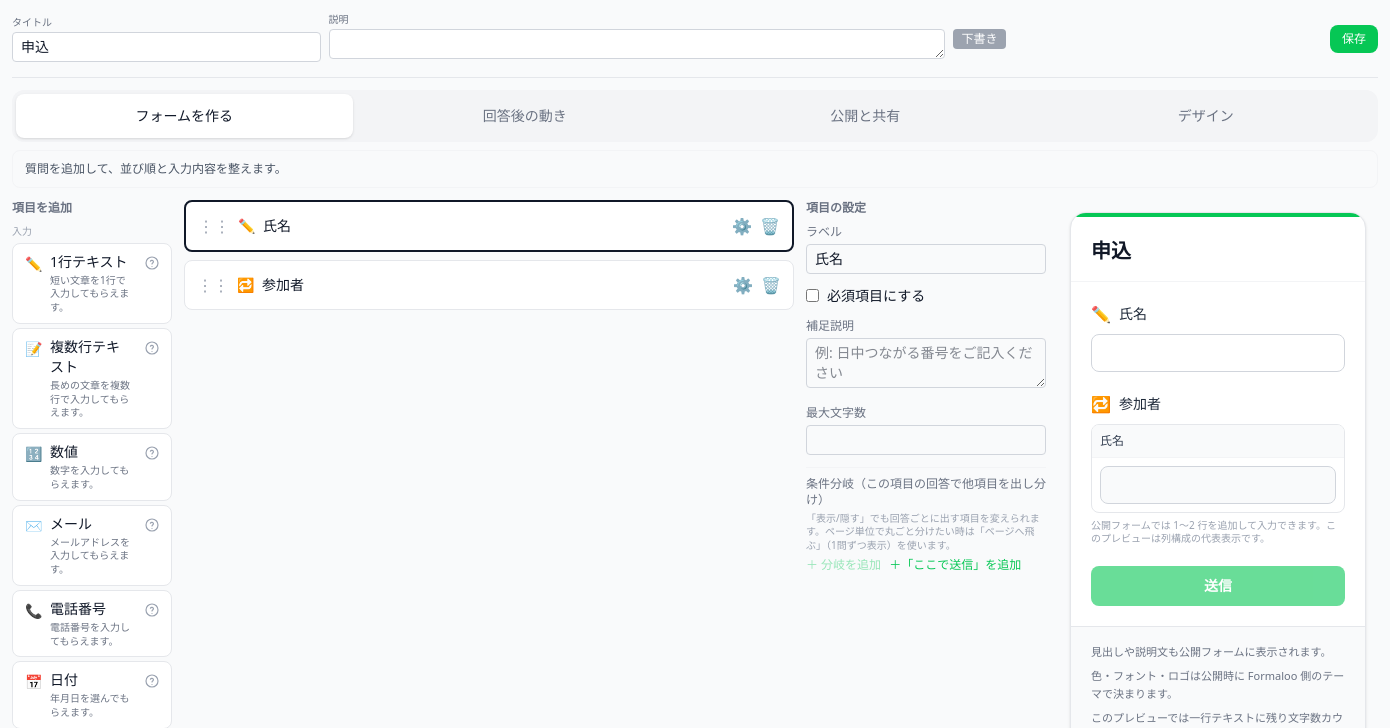
Test: repeating section builder › 繰り返し列から参照中の通常項目は削除させない
Click the button named "削除" at (770, 226), box [760,214,780,238]
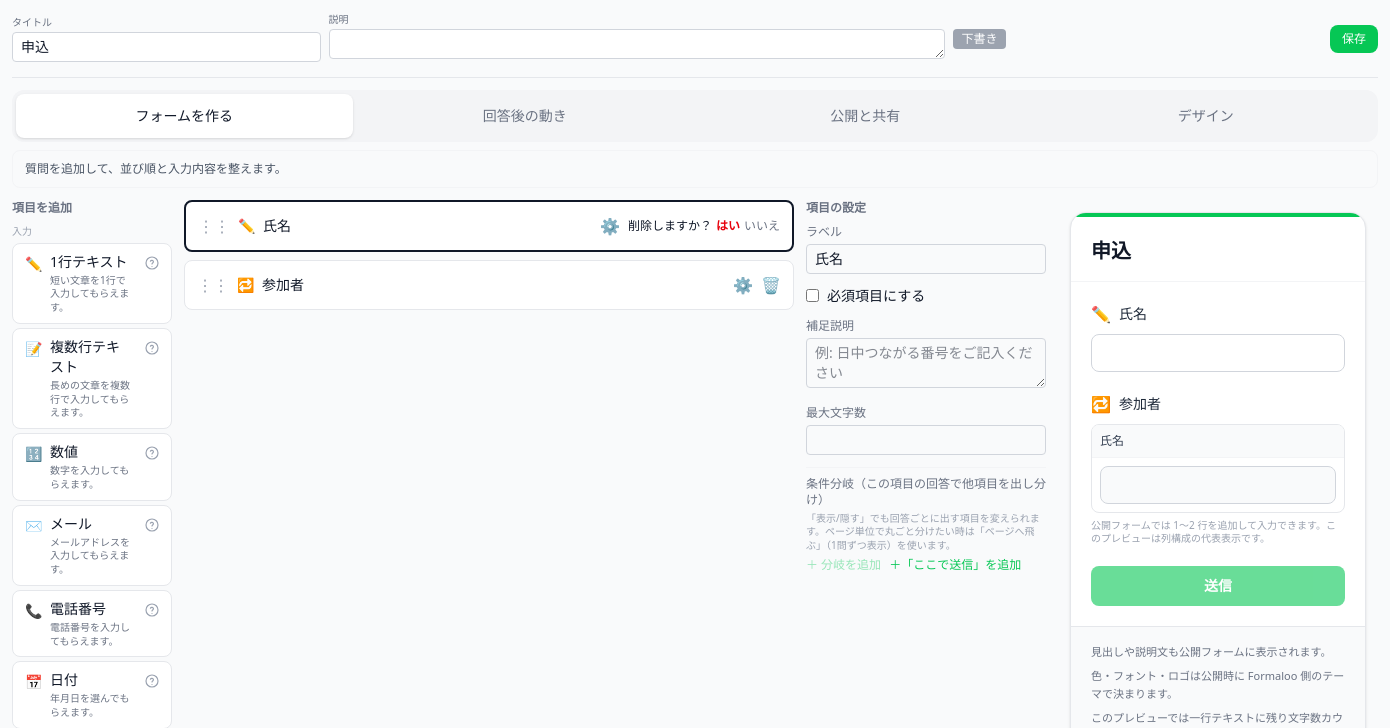
Click the button "はい" at (728, 226), box [716,218,740,234]
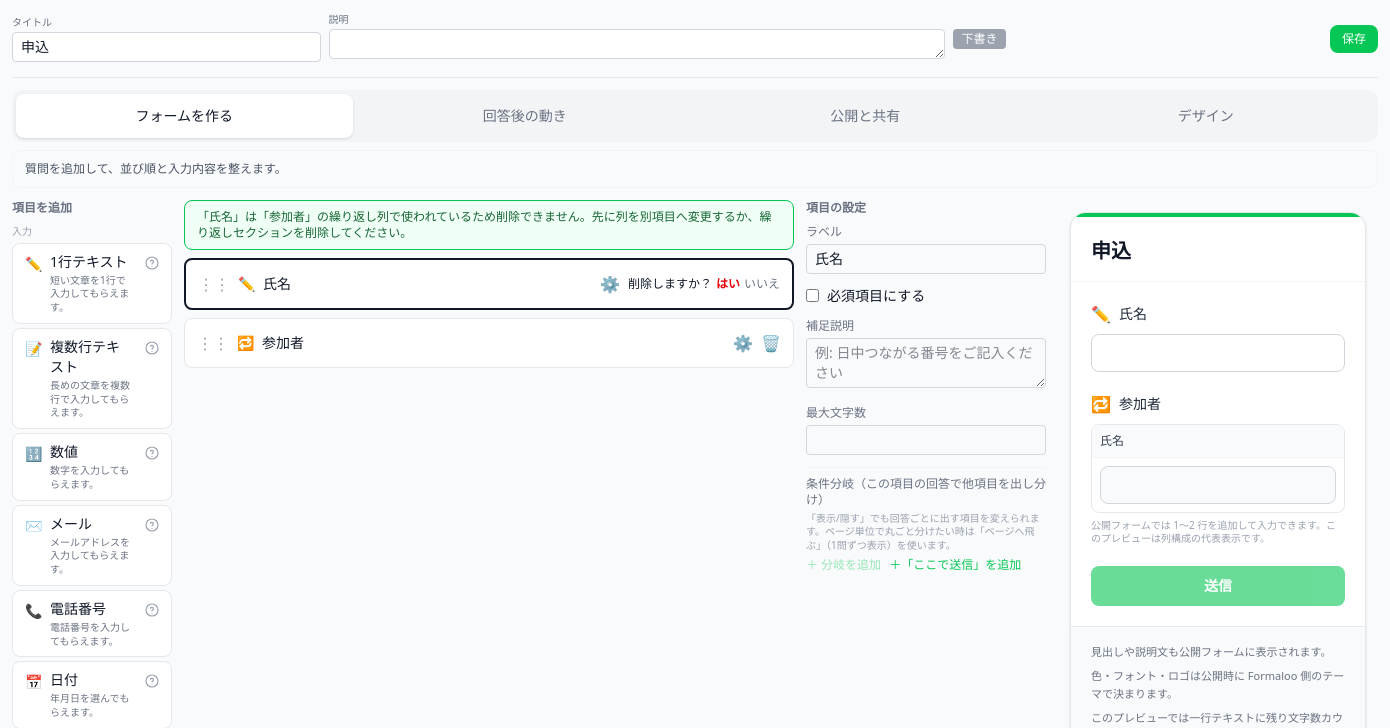
Expected: the text "氏名" is shown, [263,274,291,294]
Expected: the message with test id "drop-feedback" reads "「氏名」は「参加者」の繰り返し列で使われているため削除できません。先に列を別項目へ変更するか、繰り返しセクションを削除してください。", [197,208,772,240]
